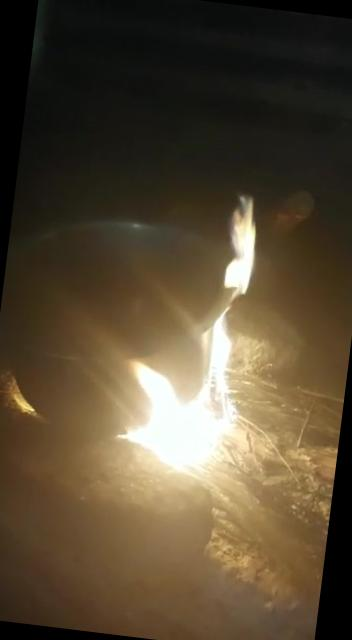Fire: (112, 180, 270, 480)
